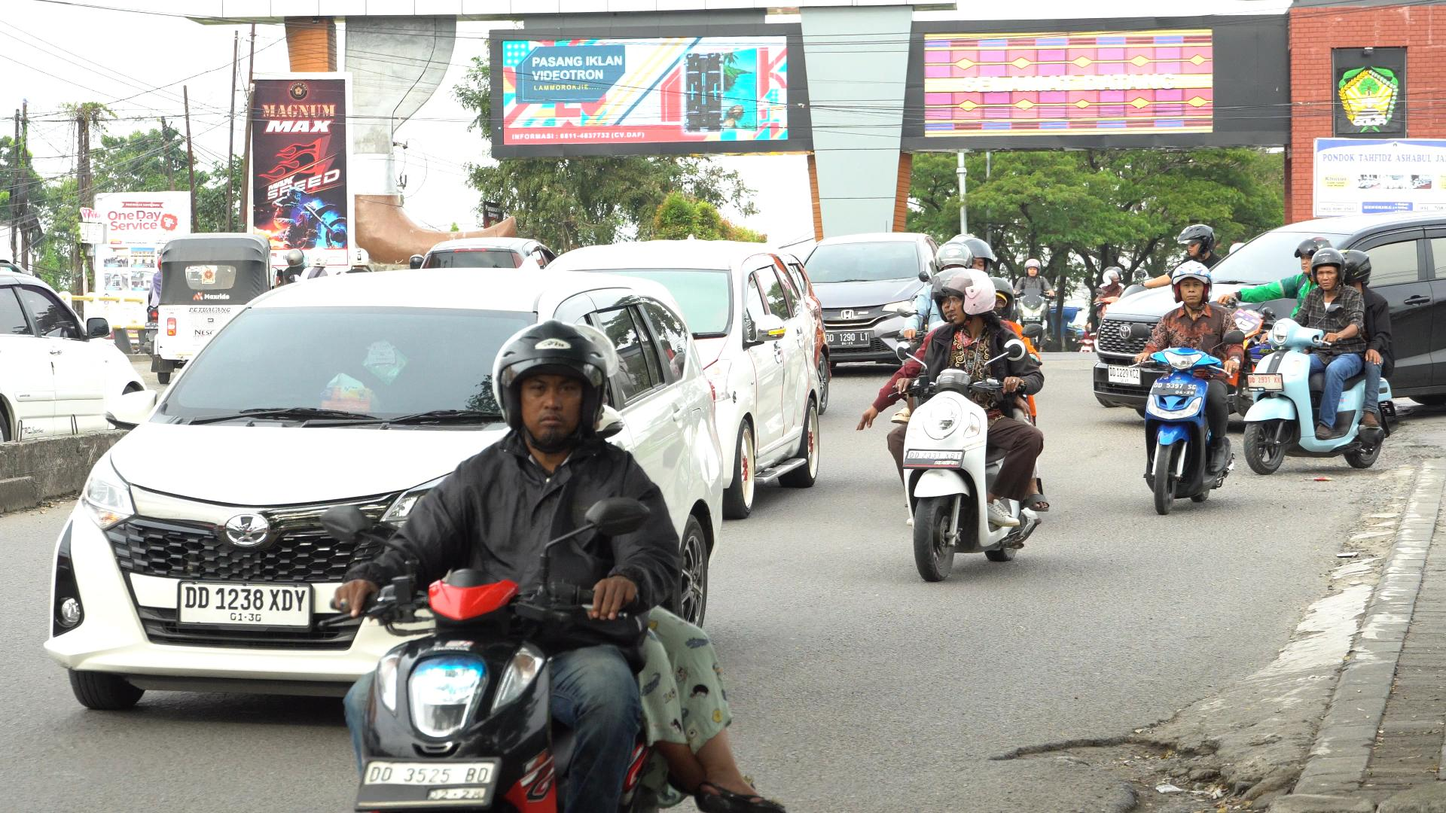number-plate: (349, 756, 501, 813), (901, 444, 963, 469), (1151, 380, 1200, 398), (1244, 372, 1286, 393)
